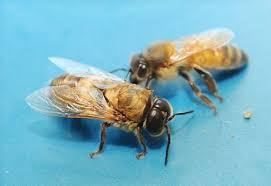worker-bee: (25, 56, 193, 164), (128, 27, 248, 112)
